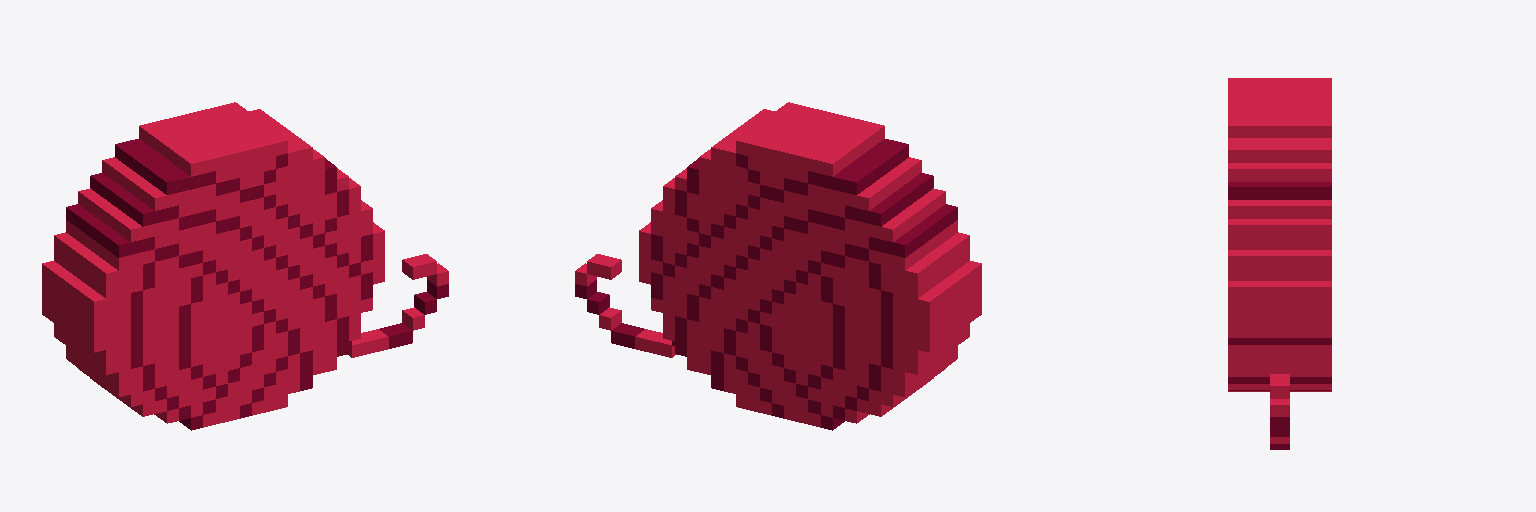
The model's file is RedYarn.obj.
3 views of the same model, side by side, from view 1: azimuth 30°, elevation 25°; view 2: azimuth 150°, elevation 25°; view 3: azimuth 270°, elevation 25° (orthographic).
Bounding box in the file's own units: 31 × 21 × 7.5.